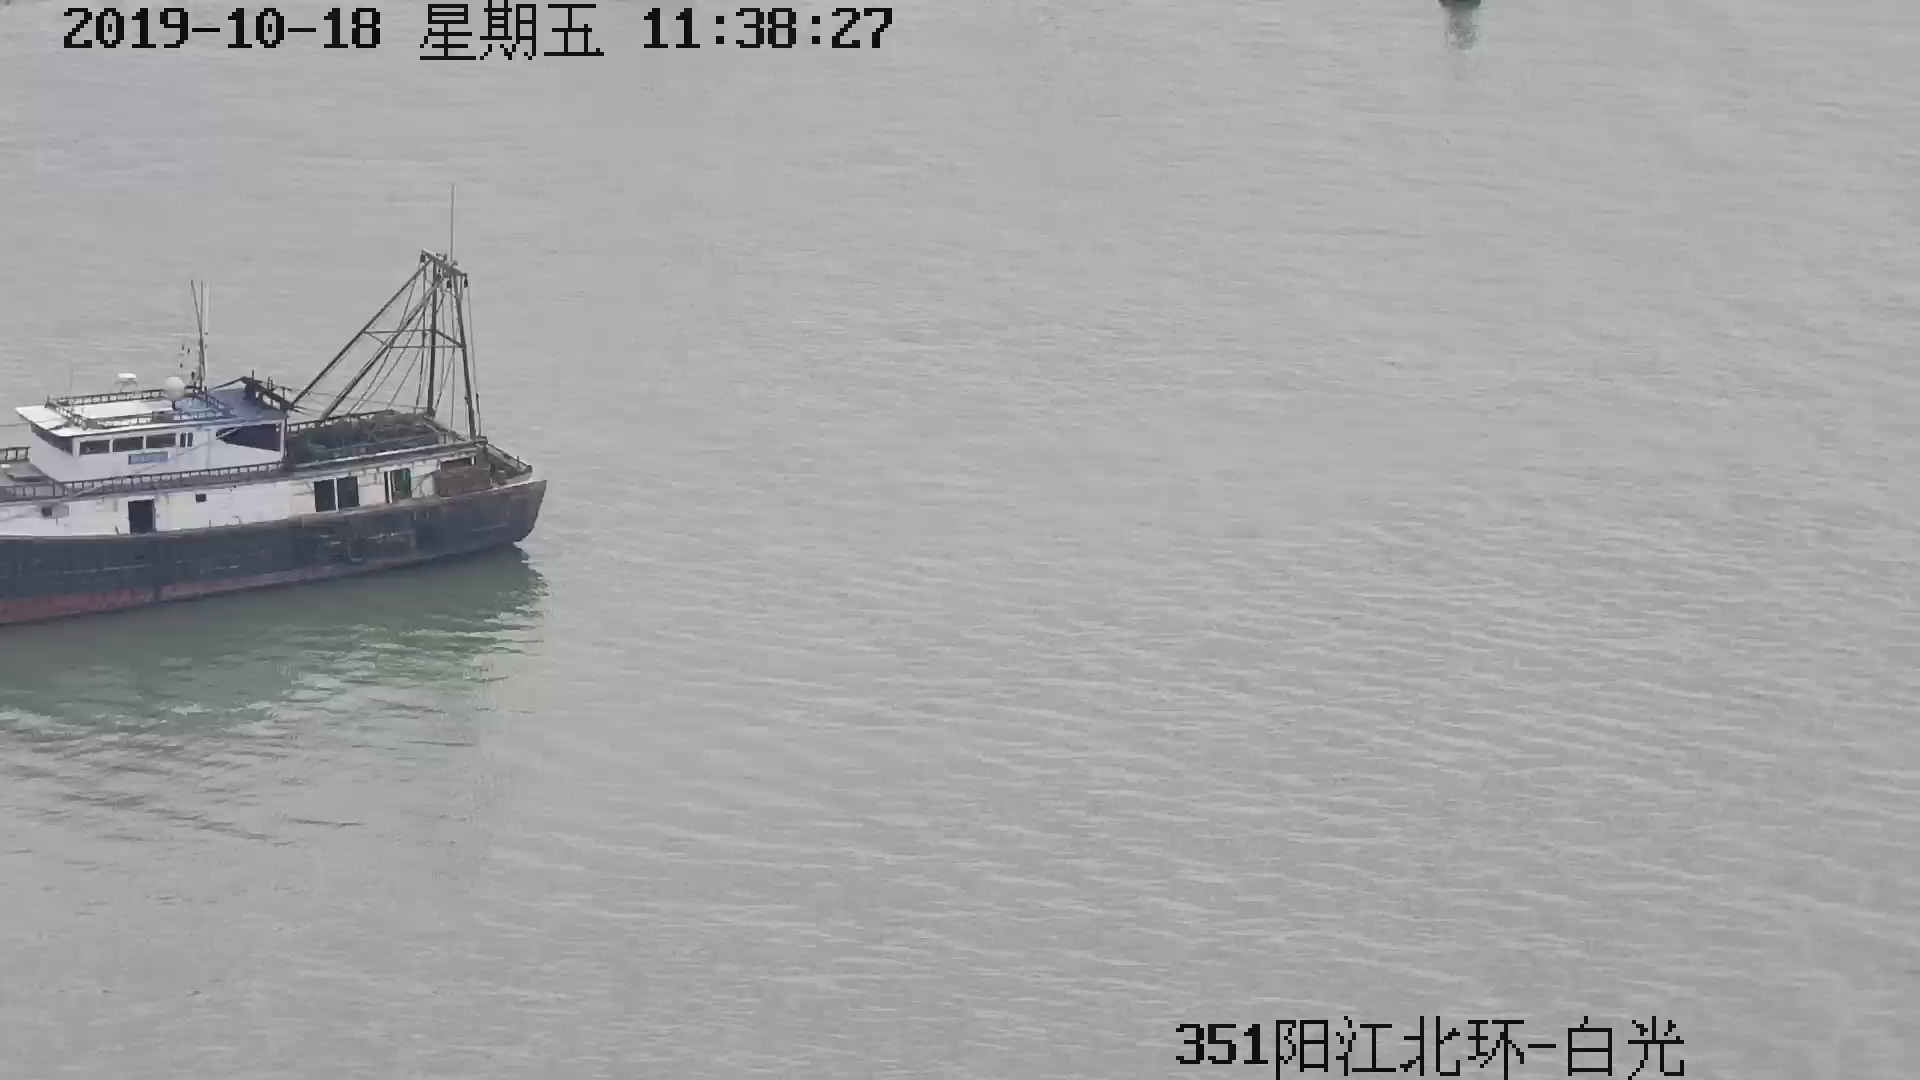ship: (1, 179, 546, 597)
